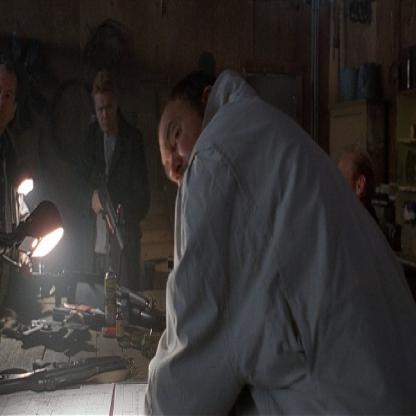Guns: (0, 354, 130, 396), (92, 169, 130, 257), (28, 265, 112, 288), (22, 315, 90, 342)
